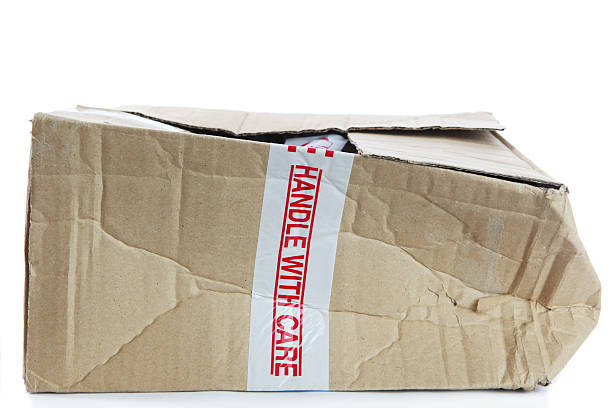damaged package: (120, 113, 356, 159), (406, 257, 571, 309), (402, 159, 554, 195), (375, 125, 508, 137)
